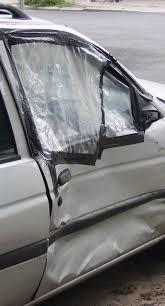doorouter-dent: (46, 88, 164, 296)
